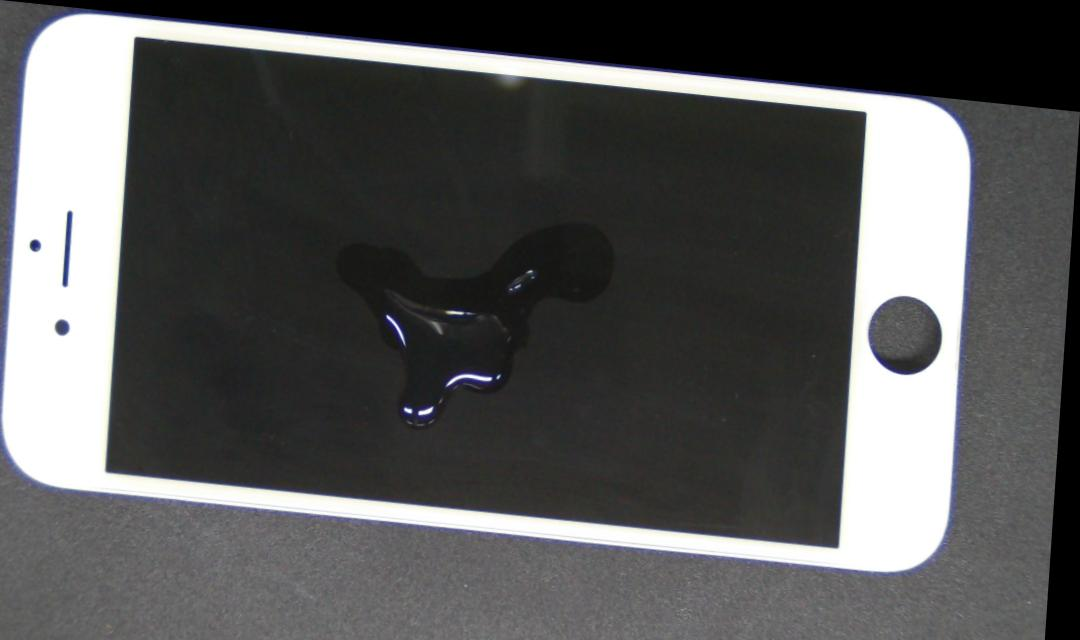oil: (279, 177, 650, 462)
